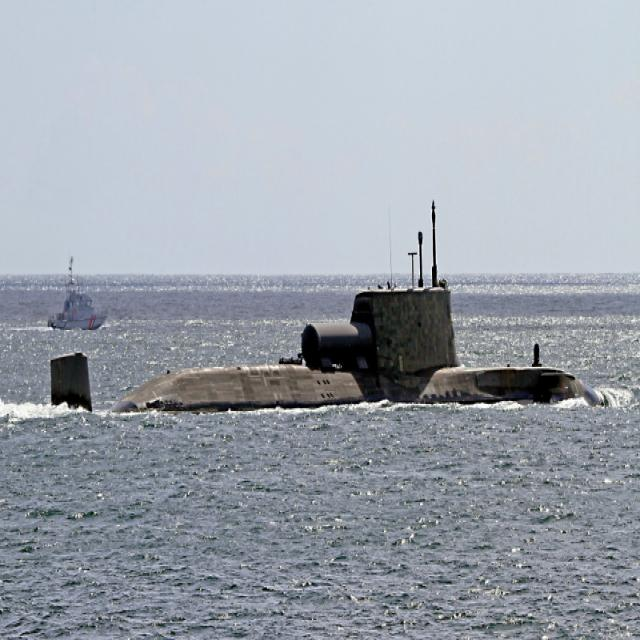submarine: (52, 200, 604, 414)
